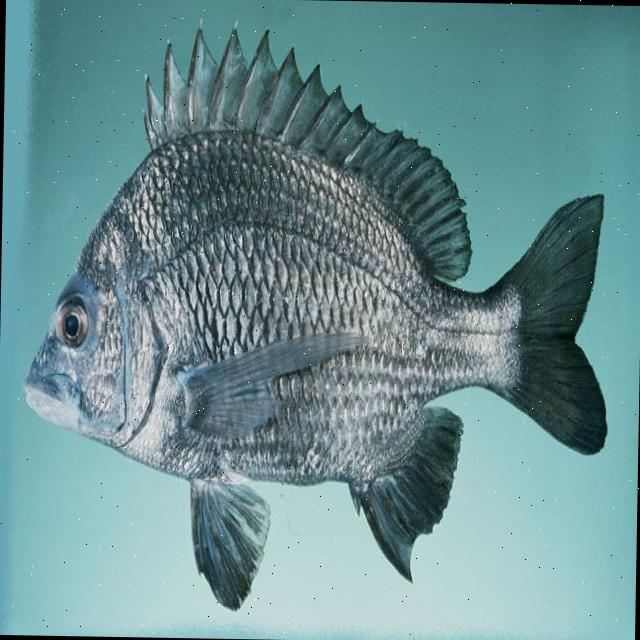ikan: (18, 12, 614, 618)
